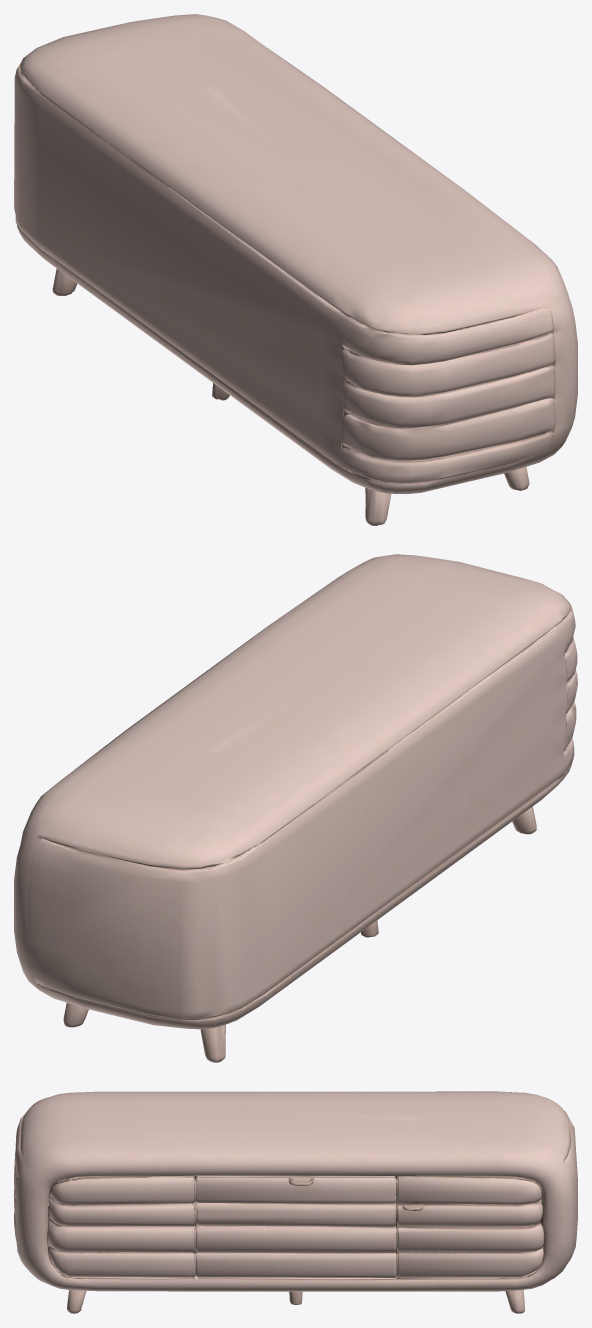
3 renders of one model, top to bottom at view 1: azimuth 30°, elevation 25°; view 2: azimuth 150°, elevation 25°; view 3: azimuth 270°, elevation 25°, orthographic. The views are drawn at different scales.
Visible parts, largest first — view 1: tripo_node_7955b39d-11cd-4cae-a8b5-6ea05a0af09d; view 2: tripo_node_7955b39d-11cd-4cae-a8b5-6ea05a0af09d; view 3: tripo_node_7955b39d-11cd-4cae-a8b5-6ea05a0af09d.
Boxes of the visible parts, box(x1,y1,x2,y2) form: tripo_node_7955b39d-11cd-4cae-a8b5-6ea05a0af09d: box(14, 14, 577, 525); tripo_node_7955b39d-11cd-4cae-a8b5-6ea05a0af09d: box(14, 554, 577, 1062); tripo_node_7955b39d-11cd-4cae-a8b5-6ea05a0af09d: box(14, 1091, 577, 1313).
Bounding box in the file's own units: 0.3301 × 0.3301 × 0.998.
1 material, 1 textured.
